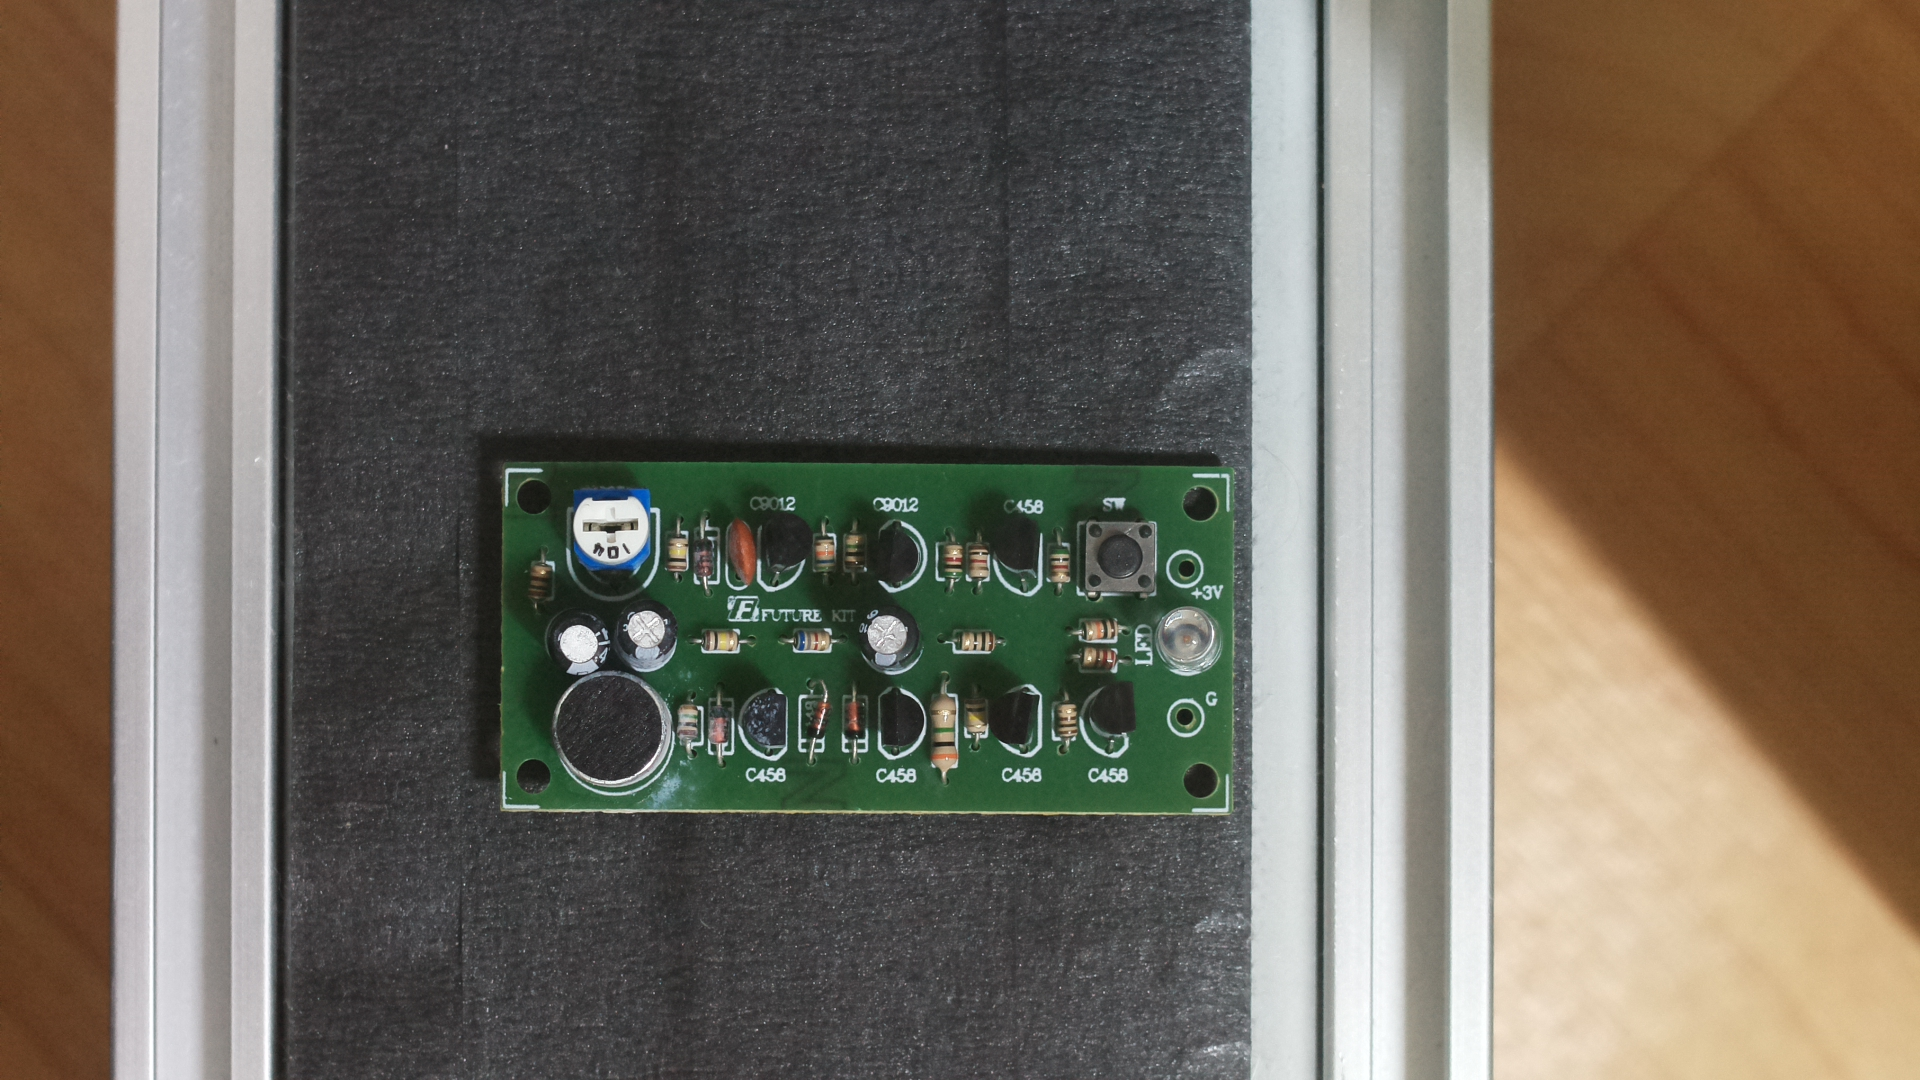A_Normal: (491, 440, 1244, 828)
